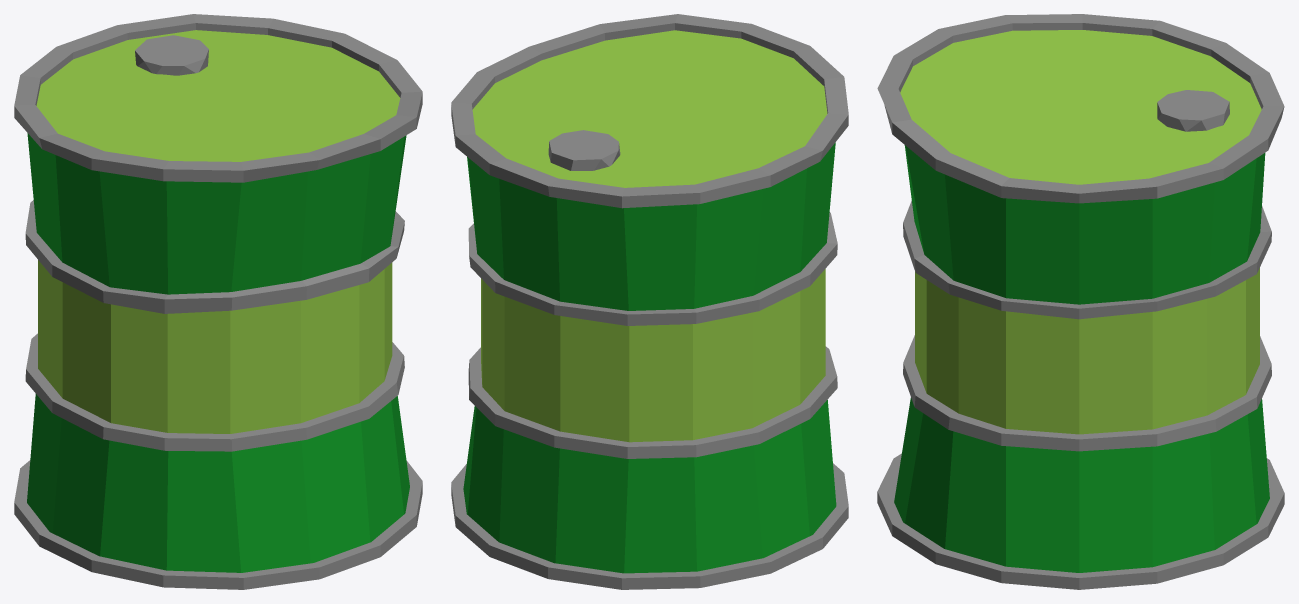
File: Barrel_3_1.fbx
3 renders of one model, left to right at view 1: azimuth 30°, elevation 25°; view 2: azimuth 150°, elevation 25°; view 3: azimuth 270°, elevation 25°, orthographic. The views are drawn at different scales.
Parts seen in each view (by area): view 1: Barrel_3_1; view 2: Barrel_3_1; view 3: Barrel_3_1.
Boxes of the visible parts, x1=… form: Barrel_3_1: x1=14, y1=14, x2=422, y2=589; Barrel_3_1: x1=451, y1=14, x2=848, y2=589; Barrel_3_1: x1=877, y1=14, x2=1284, y2=589.
Bounding box in the file's own units: 78.54 × 88.28 × 78.54.
